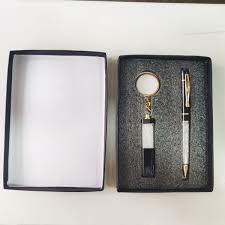pen: (180, 65, 195, 184)
